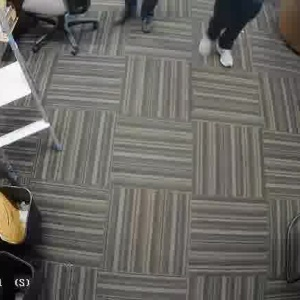person: (198, 2, 261, 71)
